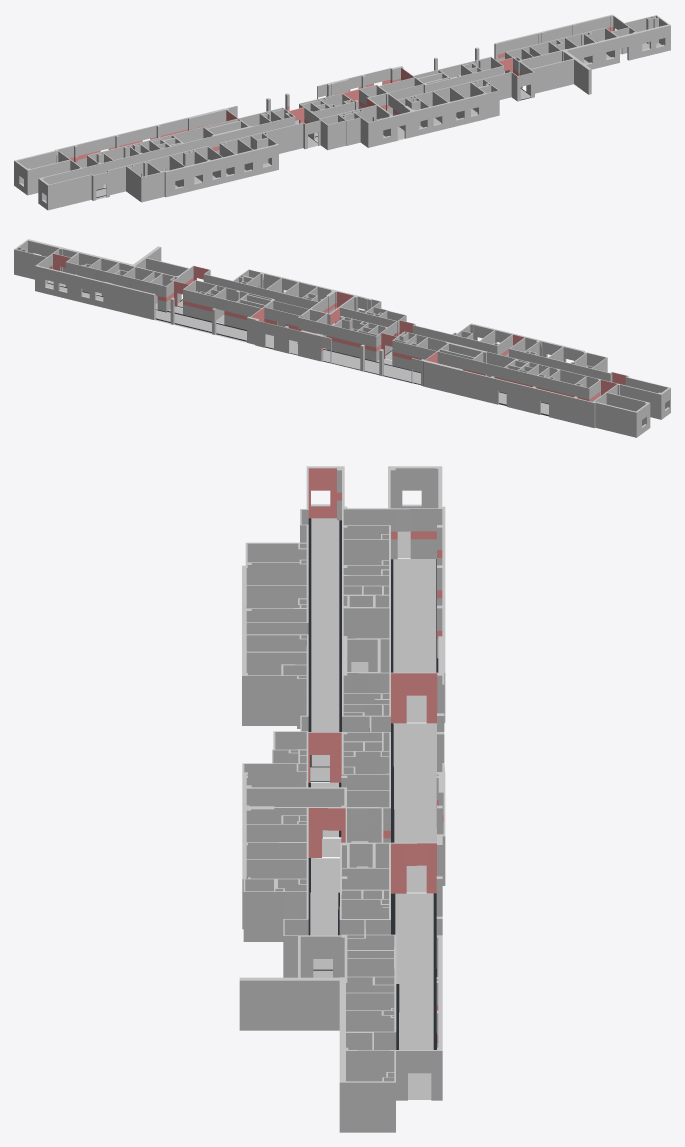
Rendered from corridor.fbx.
3 renders of one model, top to bottom at view 1: azimuth 30°, elevation 25°; view 2: azimuth 150°, elevation 25°; view 3: azimuth 270°, elevation 25°, orthographic. The views are drawn at different scales.
Visible parts, largest first — view 1: Plane; view 2: Plane; view 3: Plane.
Boxes of the visible parts, <box> form: Plane: <box>14,14,670,210</box>; Plane: <box>14,239,670,437</box>; Plane: <box>239,466,445,1132</box>.
Bounding box in the file's own units: 11104 × 420 × 1565.
